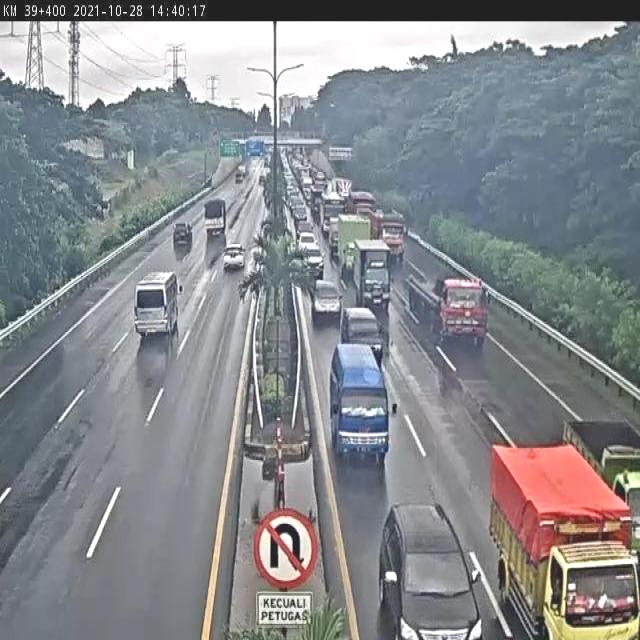Car: (372, 491, 484, 640), (338, 304, 386, 357), (165, 216, 198, 256), (312, 278, 341, 322), (220, 240, 249, 282), (300, 244, 323, 279), (297, 233, 316, 258), (293, 206, 307, 225)
Truck: (491, 436, 640, 640), (566, 409, 640, 543), (406, 270, 490, 338), (351, 236, 393, 308), (336, 211, 368, 283), (372, 205, 406, 264), (202, 198, 229, 242)
Van: (328, 347, 392, 459), (128, 269, 182, 344)
